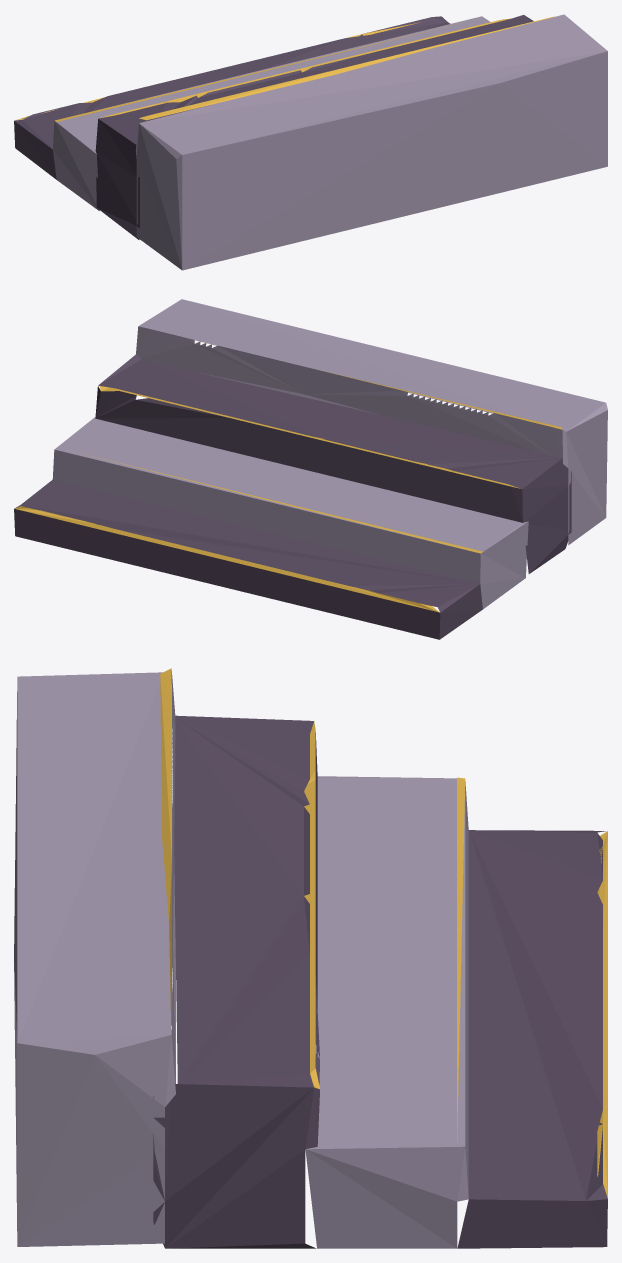
The model's file is marble_stairs.glb.
The picture shows the model from 3 angles, top to bottom: view 1: azimuth 30°, elevation 25°; view 2: azimuth 150°, elevation 25°; view 3: azimuth 270°, elevation 25°; orthographic projection. The views are drawn at different scales.
Visible parts, largest first — view 1: marble_stairs; view 2: marble_stairs; view 3: marble_stairs.
Part boxes in pixels (x1,y1,x2,y2): marble_stairs: (14, 14, 607, 270); marble_stairs: (14, 299, 607, 639); marble_stairs: (14, 668, 607, 1248).
Bounding box in the file's own units: 3 × 0.8093 × 2.02.
